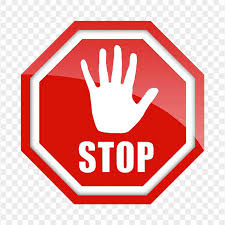stop sign: (20, 20, 204, 204)
